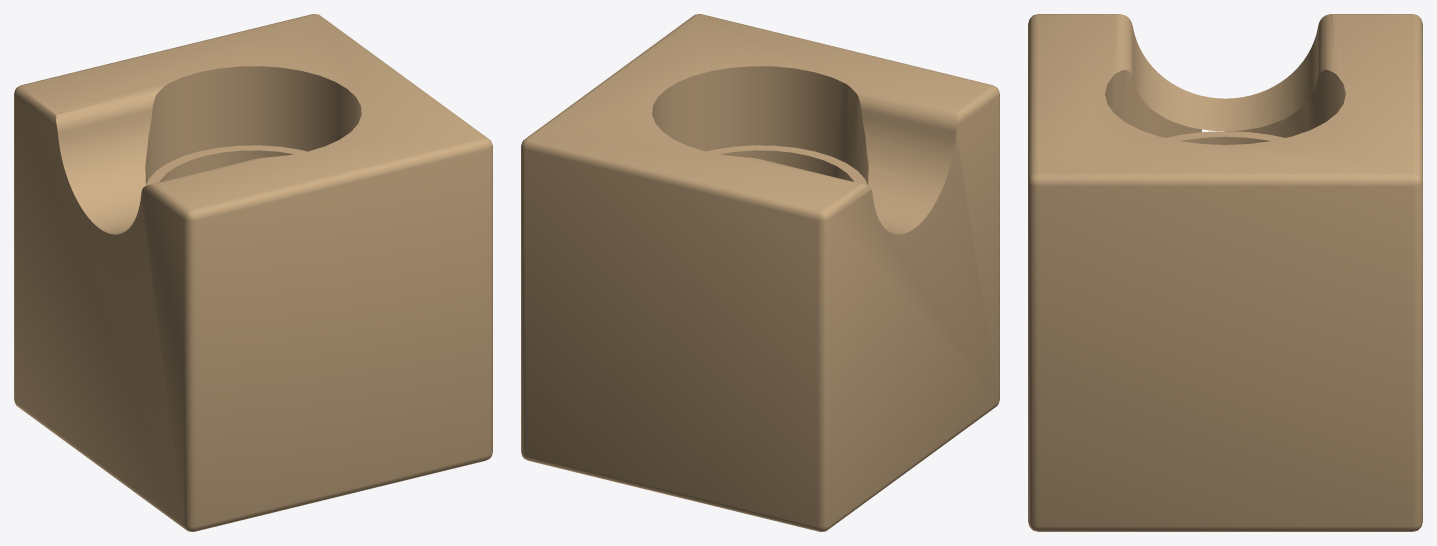
Rendered from blk_drop_l3.glb.
The picture shows the model from 3 angles, left to right: view 1: azimuth 30°, elevation 25°; view 2: azimuth 150°, elevation 25°; view 3: azimuth 270°, elevation 25°; orthographic projection. The views are drawn at different scales.
Visible parts, largest first — view 1: blk_drop_l3_lod0; view 2: blk_drop_l3_lod0; view 3: blk_drop_l3_lod0.
Boxes of the visible parts, x1,y1,x2,y2 form: blk_drop_l3_lod0: [14, 14, 492, 531]; blk_drop_l3_lod0: [521, 14, 999, 531]; blk_drop_l3_lod0: [1028, 14, 1422, 531].
Size of what is drawn, in the model's own units: 0.059 by 0.059 by 0.059.
